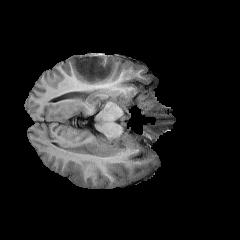glioma: (67, 56, 115, 85)
